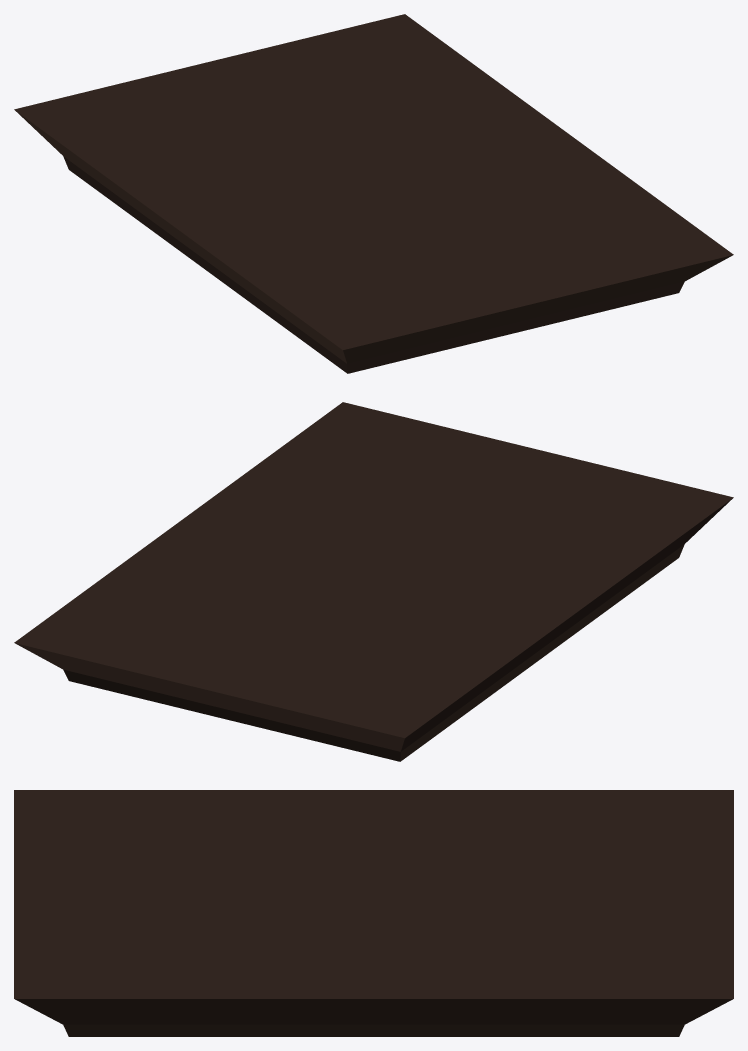
File: lights.glb
3 renders of one model, top to bottom at view 1: azimuth 30°, elevation 25°; view 2: azimuth 150°, elevation 25°; view 3: azimuth 270°, elevation 25°, orthographic. The views are drawn at different scales.
Parts seen in each view (by area): view 1: Light; view 2: Light; view 3: Light.
Boxes of the visible parts, x1,y1,x2,y2 form: Light: (14,14,733,373); Light: (14,402,733,761); Light: (14,790,733,1036).
Bounding box in the file's own units: 1.58 × 0.1901 × 2.3.
1 material, 1 textured.
